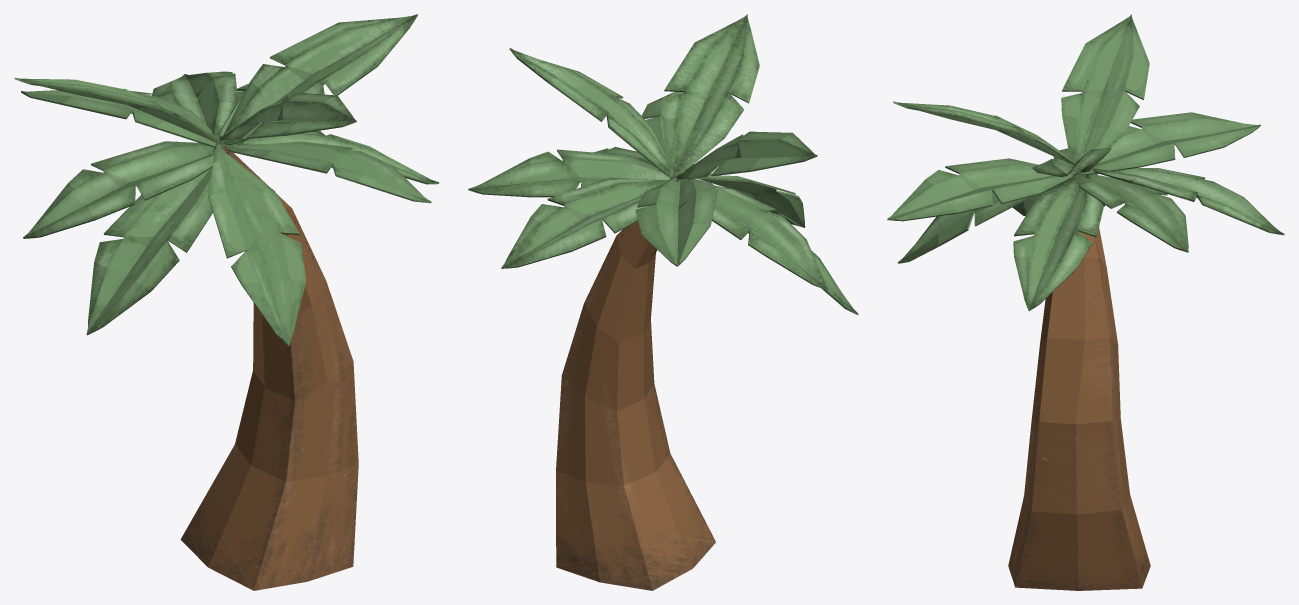
File: palmera__para_texturizar_.obj
3 views of the same model, side by side, from view 1: azimuth 30°, elevation 25°; view 2: azimuth 150°, elevation 25°; view 3: azimuth 270°, elevation 25° (orthographic). The views are drawn at different scales.
Visible parts, largest first — view 1: Cube_Material, Plane.002, Plane.001, Plane.008, Plane.007, Plane.003, Plane.010, Plane.011, Plane.004, Plane.005, Plane.009; view 2: Cube_Material, Plane.010, Plane.011, Plane.006, Plane.004, Plane.007, Plane.008, Plane.005, Plane.002, Plane.003, Plane.001; view 3: Cube_Material, Plane.005, Plane.009, Plane.003, Plane.004, Plane.006, Plane.011, Plane.002, Plane.010, Plane.008.
Part boxes in pixels (x1,y1,x2,y2): Cube_Material: (180,145,358,590); Plane.002: (208,142,306,346); Plane.001: (86,168,212,335); Plane.008: (223,14,417,145); Plane.007: (23,141,244,238); Plane.003: (227,141,431,203); Plane.010: (218,92,356,142); Plane.011: (152,71,237,140); Plane.004: (21,90,229,148); Plane.005: (14,77,229,145); Plane.009: (238,131,439,184); Cube_Material: (556,221,715,590); Plane.010: (662,14,759,179); Plane.011: (501,177,679,268); Plane.006: (468,149,670,197); Plane.004: (635,177,717,266); Plane.007: (712,185,828,290); Plane.008: (509,48,676,177); Plane.005: (677,131,817,180); Plane.002: (697,173,805,227); Plane.003: (641,91,693,165); Plane.001: (748,232,858,314); Cube_Material: (1008,175,1150,590); Plane.005: (1061,14,1149,176); Plane.009: (1013,174,1103,310); Plane.003: (887,158,1074,221); Plane.004: (1079,112,1260,174); Plane.006: (1074,174,1188,252); Plane.011: (1092,168,1284,235); Plane.002: (897,191,1029,263); Plane.010: (893,101,1090,171); Plane.008: (1032,147,1111,177).
Bounding box in the file's own units: 7.34 × 9.72 × 7.64.
Materials: 1 (1 with a texture image).
